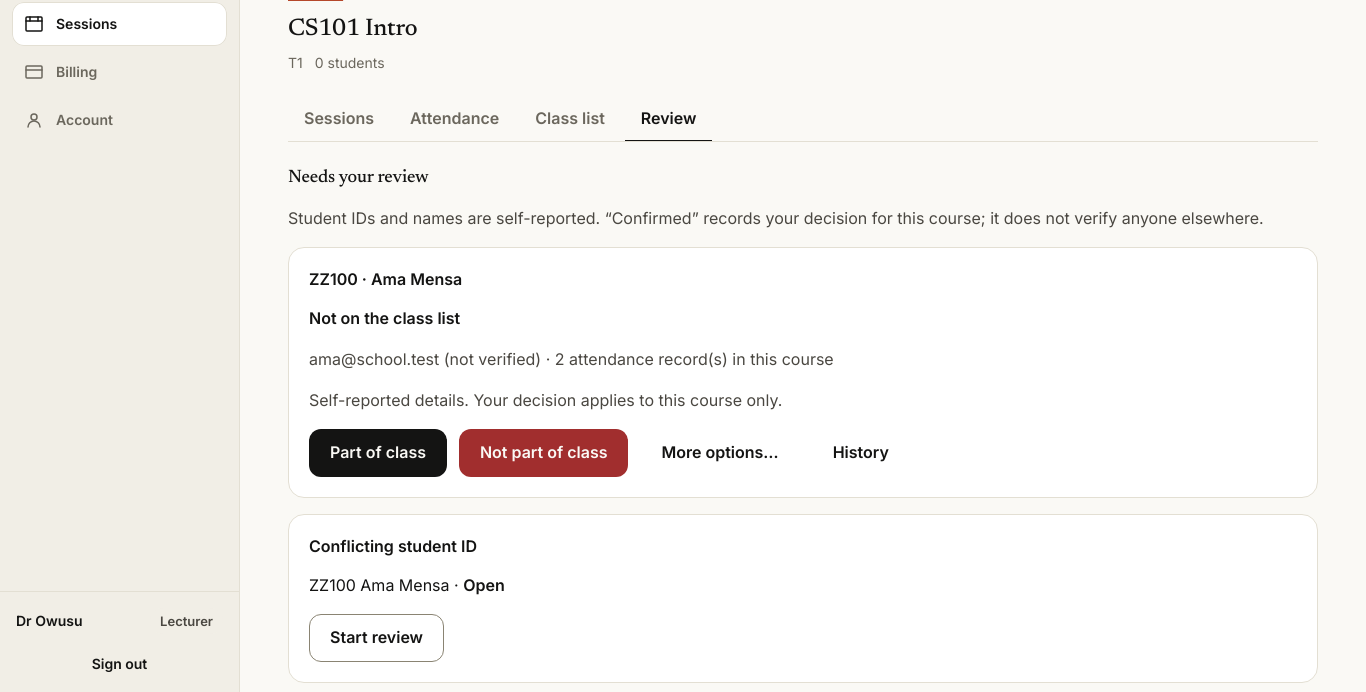
Test case: review queue › sends the other decisions without an entry or basis, and explains refusals in plain words
Click the button "More options…": (720, 453) [640,429,800,477]
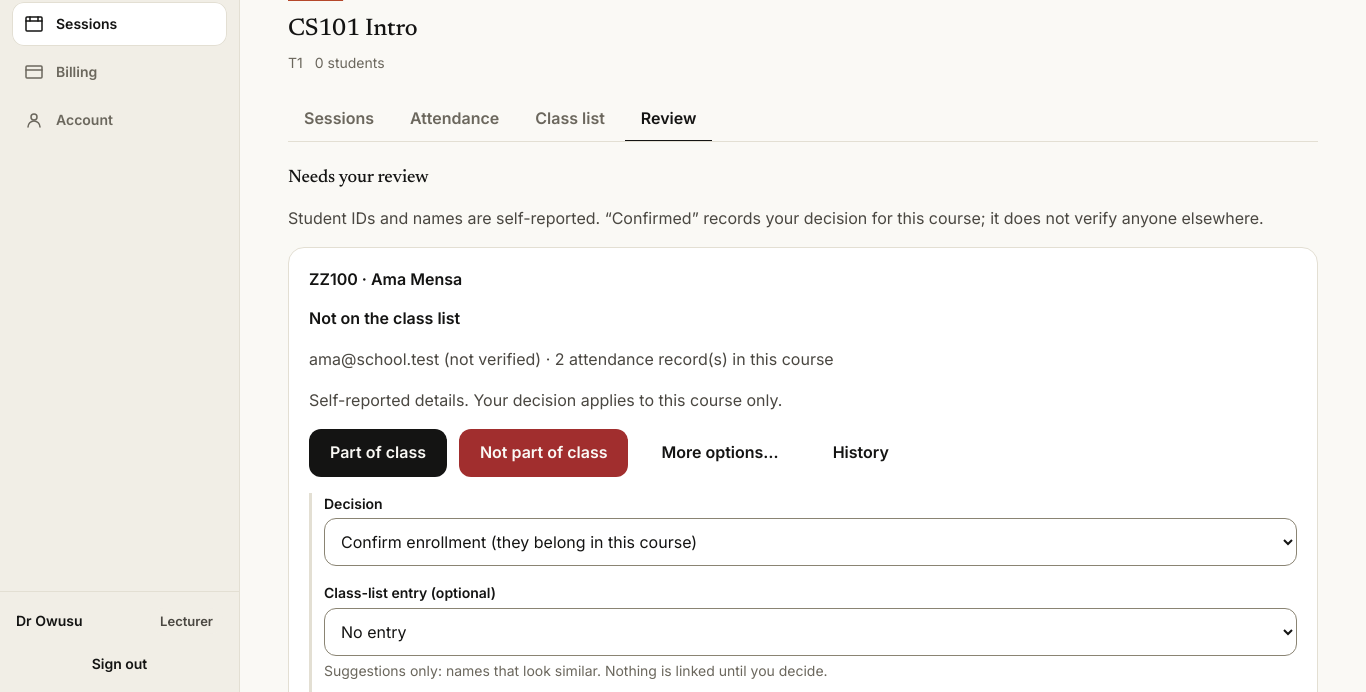
Select "Reject this match" in the dropdown labelled "Decision": (810, 542) [324,518,1297,566]
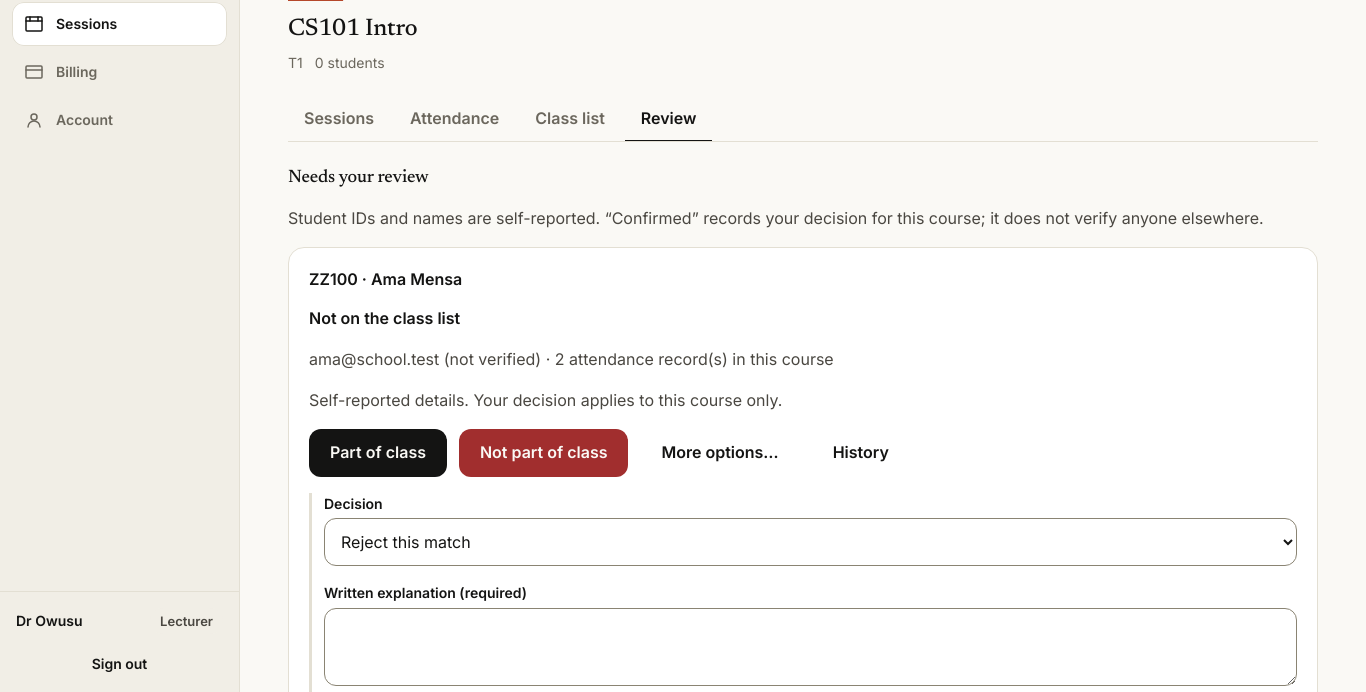
In the text box labelled "Written explanation (required)": (810, 647) [324,608,1297,686], type "This is a sufficiently long explanation"
(page scrolled)
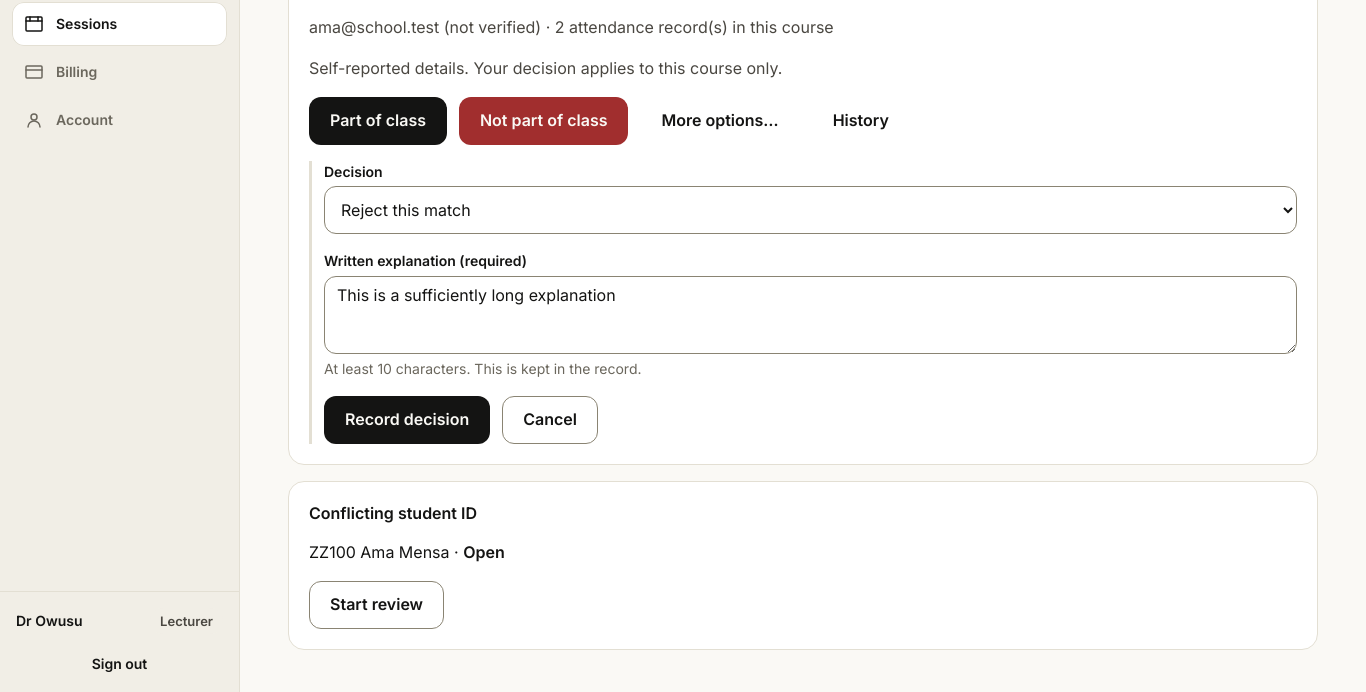
Click the button "Record decision": (407, 420) [324,396,490,444]
(page scrolled)
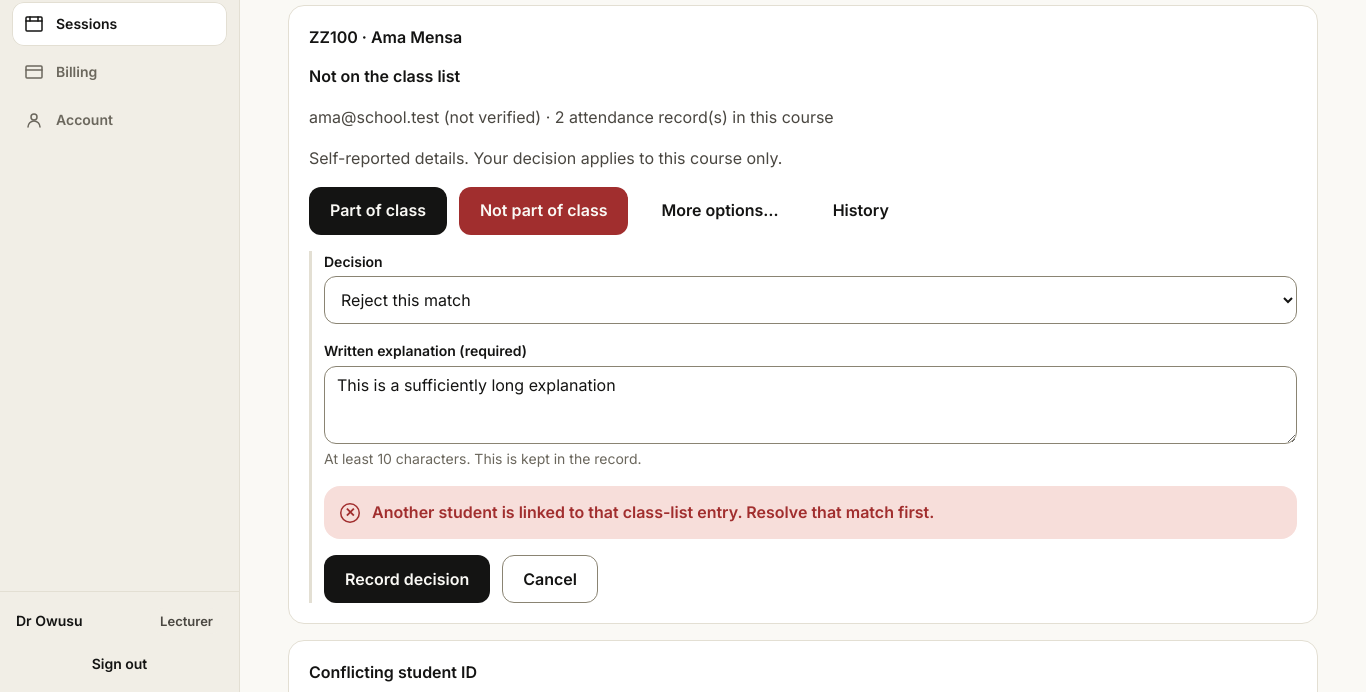
Check: the heading "Another student is linked" is shown, box [372,502,934,522]
